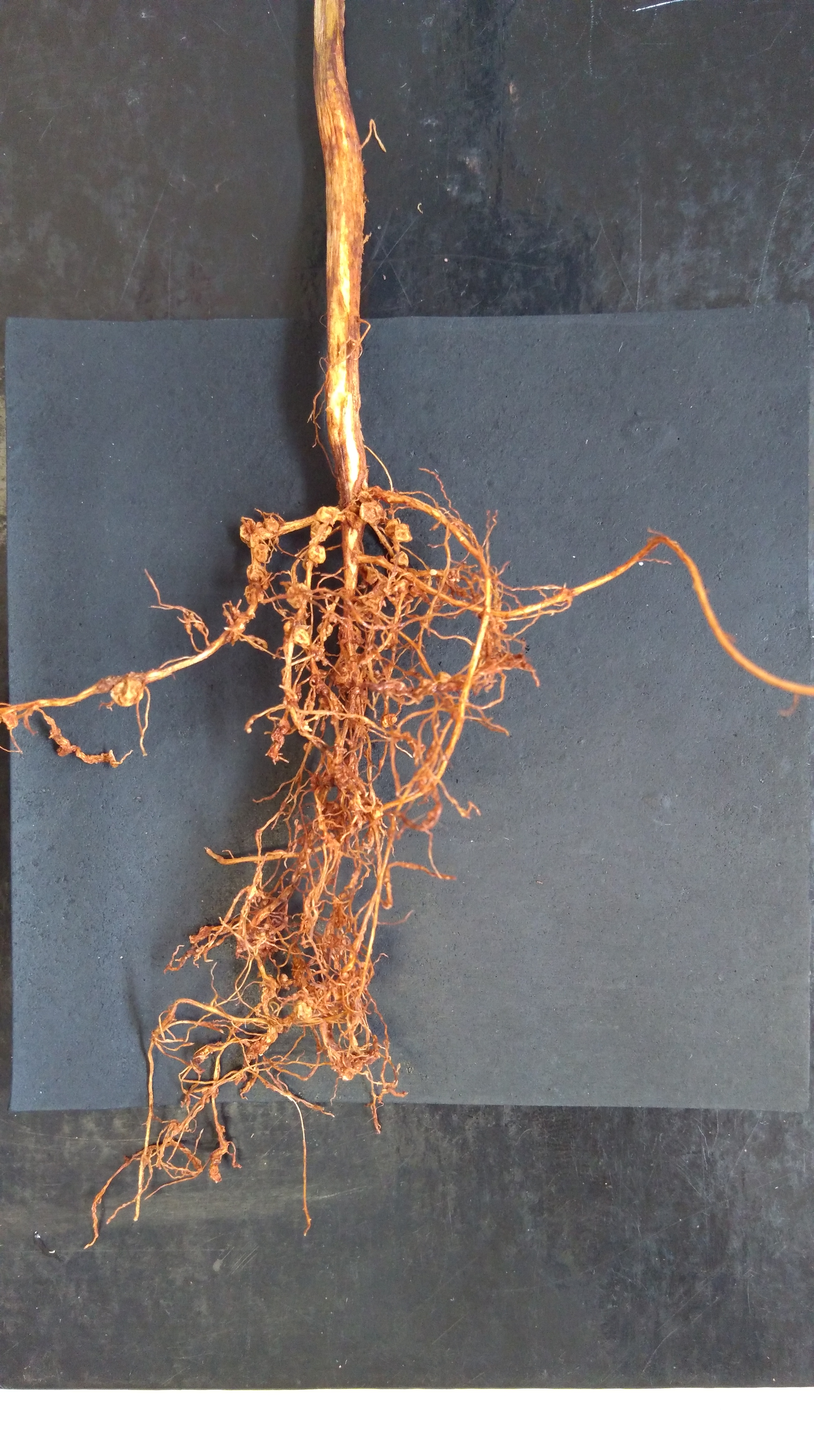nodule: (106, 676, 147, 709), (283, 581, 308, 610), (309, 519, 334, 545), (360, 502, 385, 525), (305, 543, 327, 566), (316, 504, 339, 525), (291, 626, 312, 649), (393, 521, 414, 543), (296, 1000, 316, 1023), (381, 711, 401, 730), (252, 542, 269, 564), (380, 518, 399, 537), (245, 585, 264, 604), (390, 551, 411, 568), (247, 563, 266, 581), (418, 678, 437, 696), (262, 517, 282, 534), (433, 670, 453, 687), (344, 510, 362, 528), (316, 622, 335, 639), (362, 565, 379, 584), (238, 522, 252, 545), (282, 617, 294, 637), (358, 490, 374, 503), (395, 579, 409, 593), (278, 972, 291, 986), (409, 585, 422, 598), (303, 742, 311, 753), (219, 1124, 226, 1133), (387, 506, 394, 514), (205, 1097, 211, 1104)
